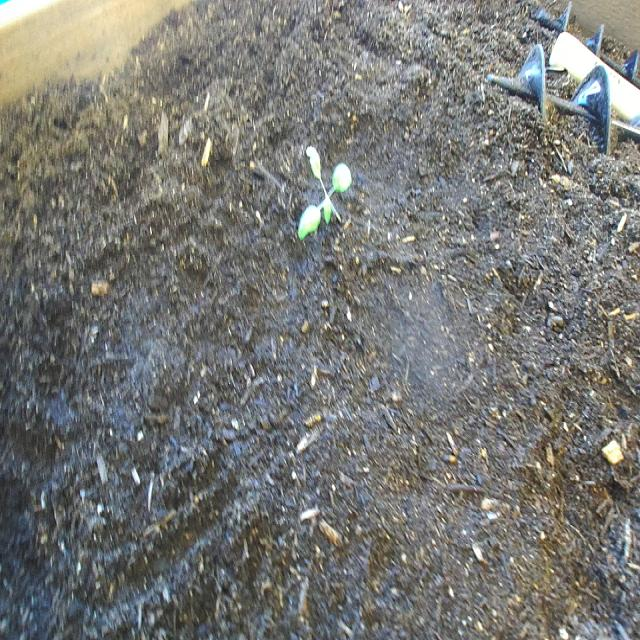Healthy: (297, 140, 355, 248)
